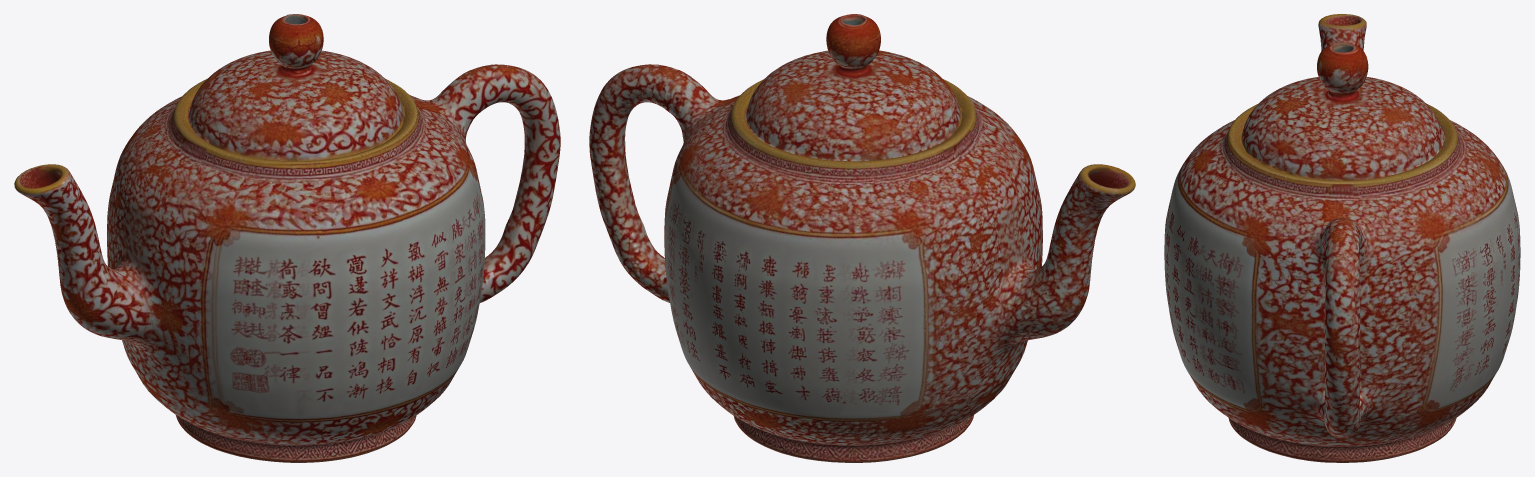
File: 白地矾红彩题“荷露烹茶”诗茶器.glb
3 renders of one model, left to right at view 1: azimuth 30°, elevation 25°; view 2: azimuth 150°, elevation 25°; view 3: azimuth 270°, elevation 25°, orthographic. The views are drawn at different scales.
Visible parts, largest first — view 1: tripo_node_34b0bb2d; view 2: tripo_node_34b0bb2d; view 3: tripo_node_34b0bb2d.
Part boxes in pixels (x1,y1,x2,y2): tripo_node_34b0bb2d: (14,14,560,462); tripo_node_34b0bb2d: (589,14,1135,462); tripo_node_34b0bb2d: (1164,14,1520,462).
Size of the model in its own units: 97.96 by 68.19 by 59.63.
Materials: 1 (1 with a texture image).
